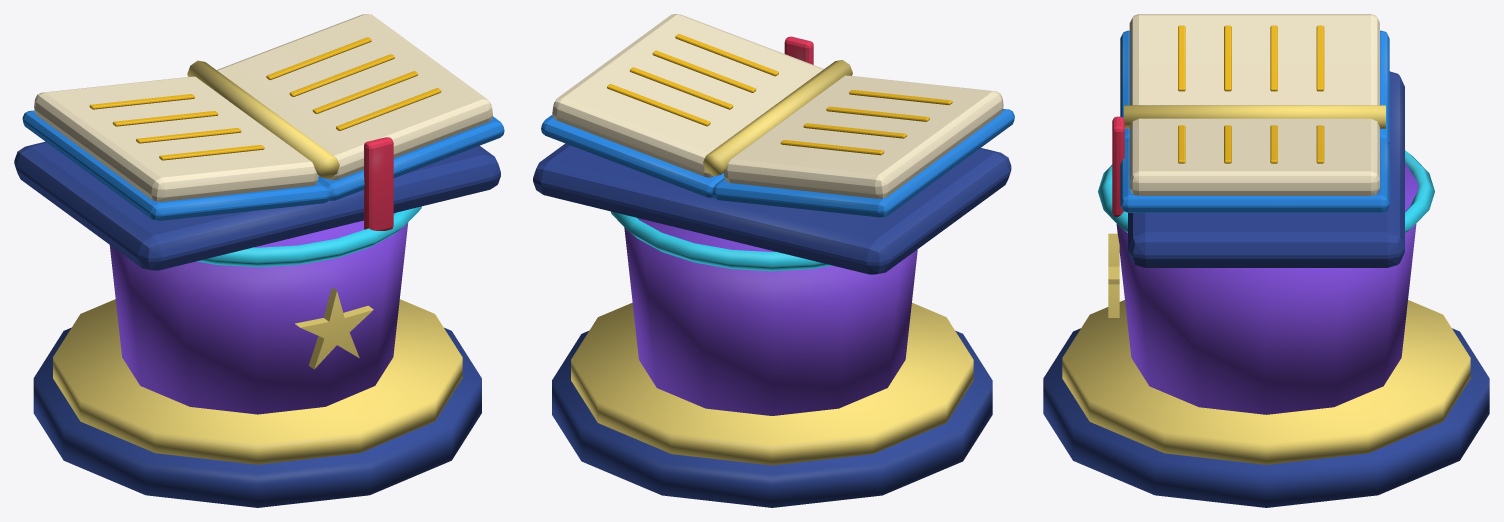
The model's file is IndexBookPedestal.fbx.
3 views of the same model, side by side, from view 1: azimuth 30°, elevation 25°; view 2: azimuth 150°, elevation 25°; view 3: azimuth 270°, elevation 25° (orthographic).
Parts seen in each view (by area): view 1: IndexBookPedestal; view 2: IndexBookPedestal; view 3: IndexBookPedestal.
Boxes of the visible parts, bbox=[...] form: IndexBookPedestal: bbox=[14, 14, 504, 507]; IndexBookPedestal: bbox=[533, 14, 1014, 507]; IndexBookPedestal: bbox=[1043, 14, 1489, 507].
Bounding box in the file's own units: 5.8 × 4.59 × 5.8.
1 material, 1 textured.
